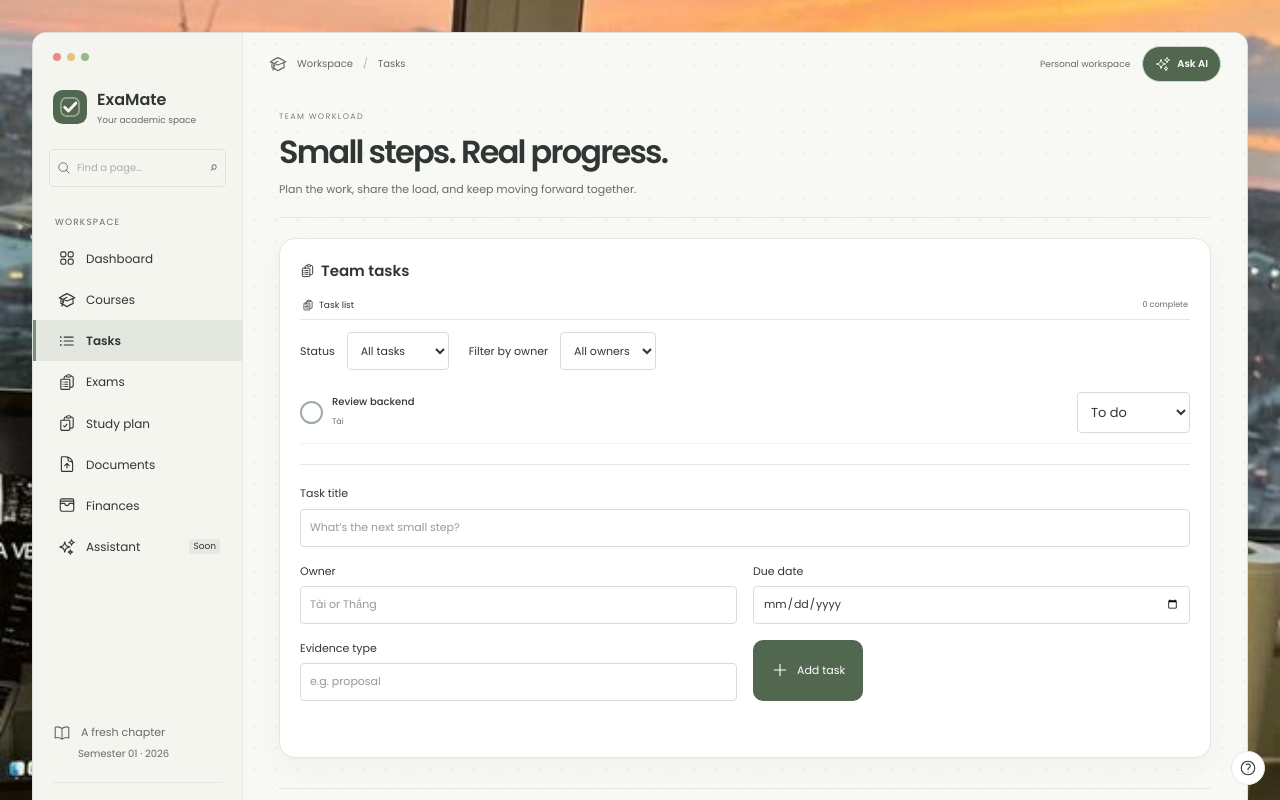
Scenario: updates task status using server response and shows failed submission
Expected: the text "Review backend" is shown, [332,394,414,410]
Select "Done" in the dropdown named "Status for Review backend" at (1134, 413), box [1077,392,1190,433]
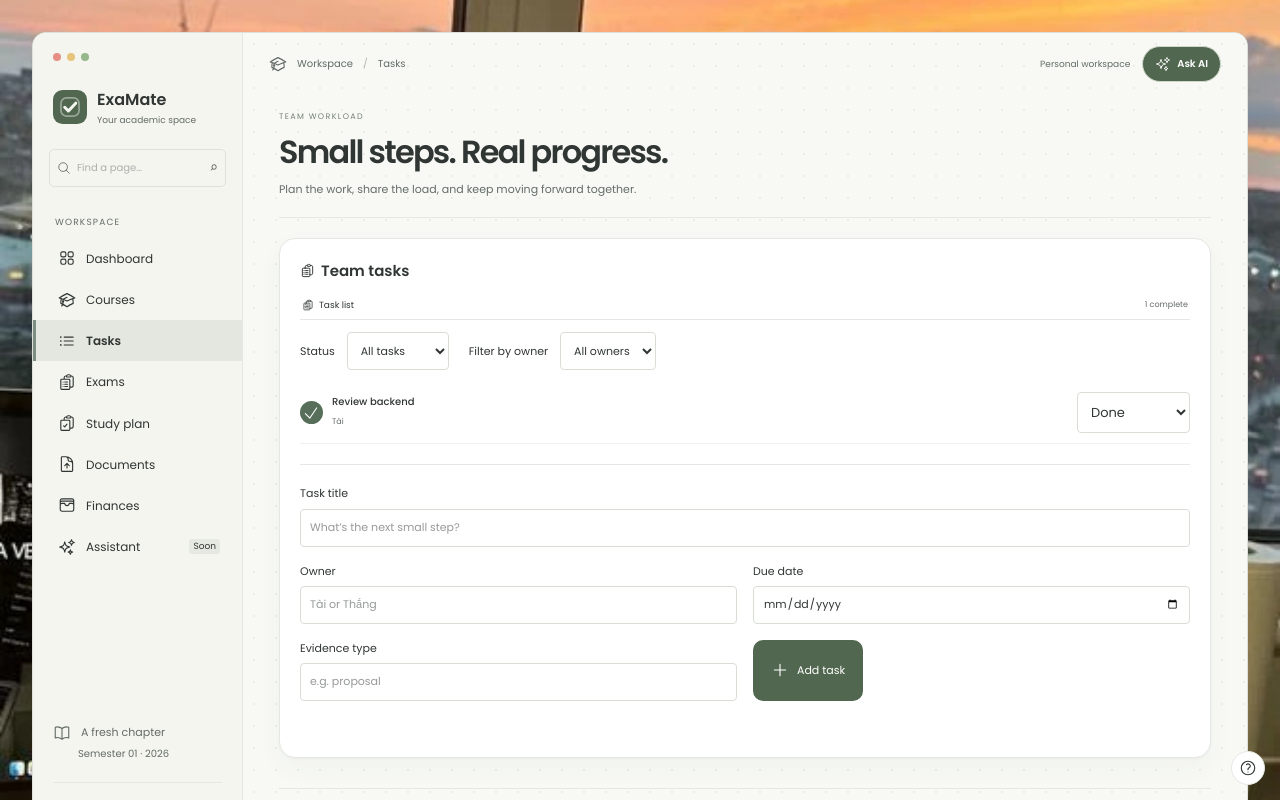
Type "Valid client title" into the field labelled "Task title" at (745, 528), box [300,509,1190,547]
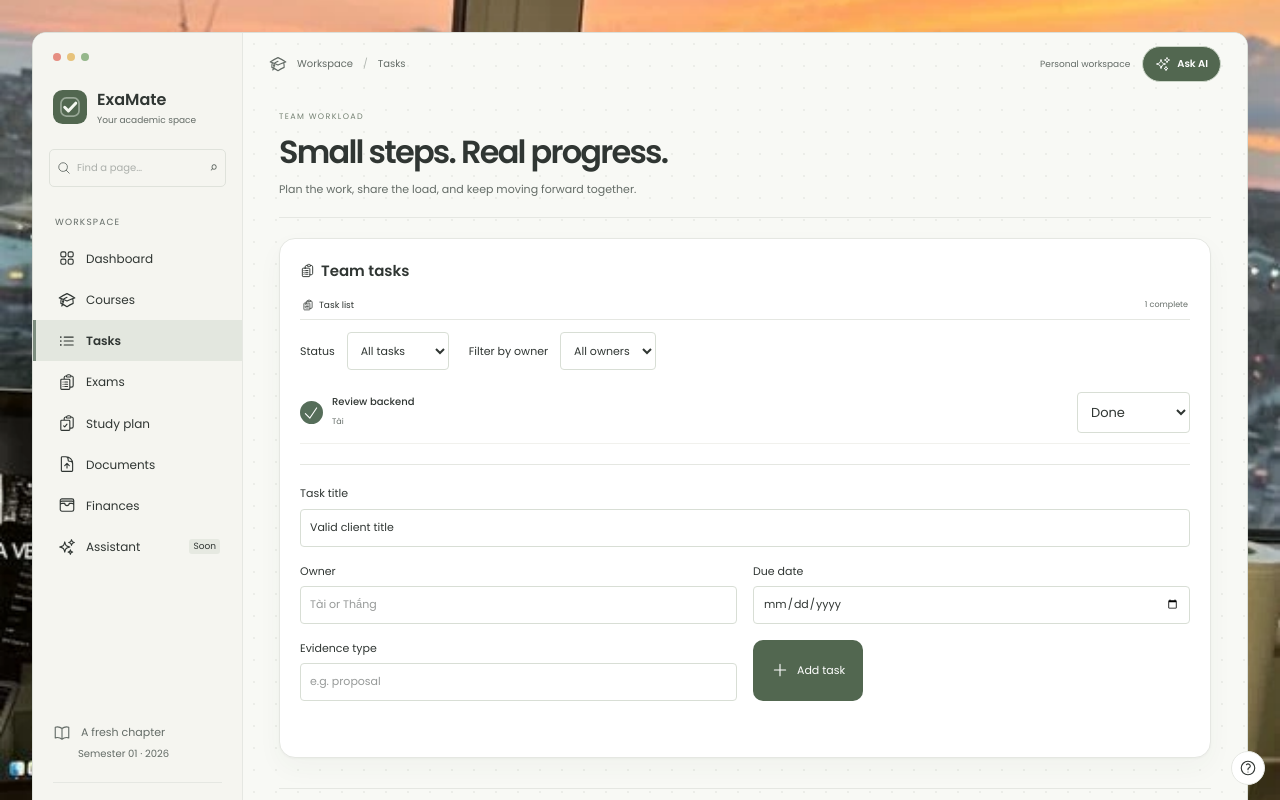
Click the button "Add task" at (808, 670), box [753,640,863,701]
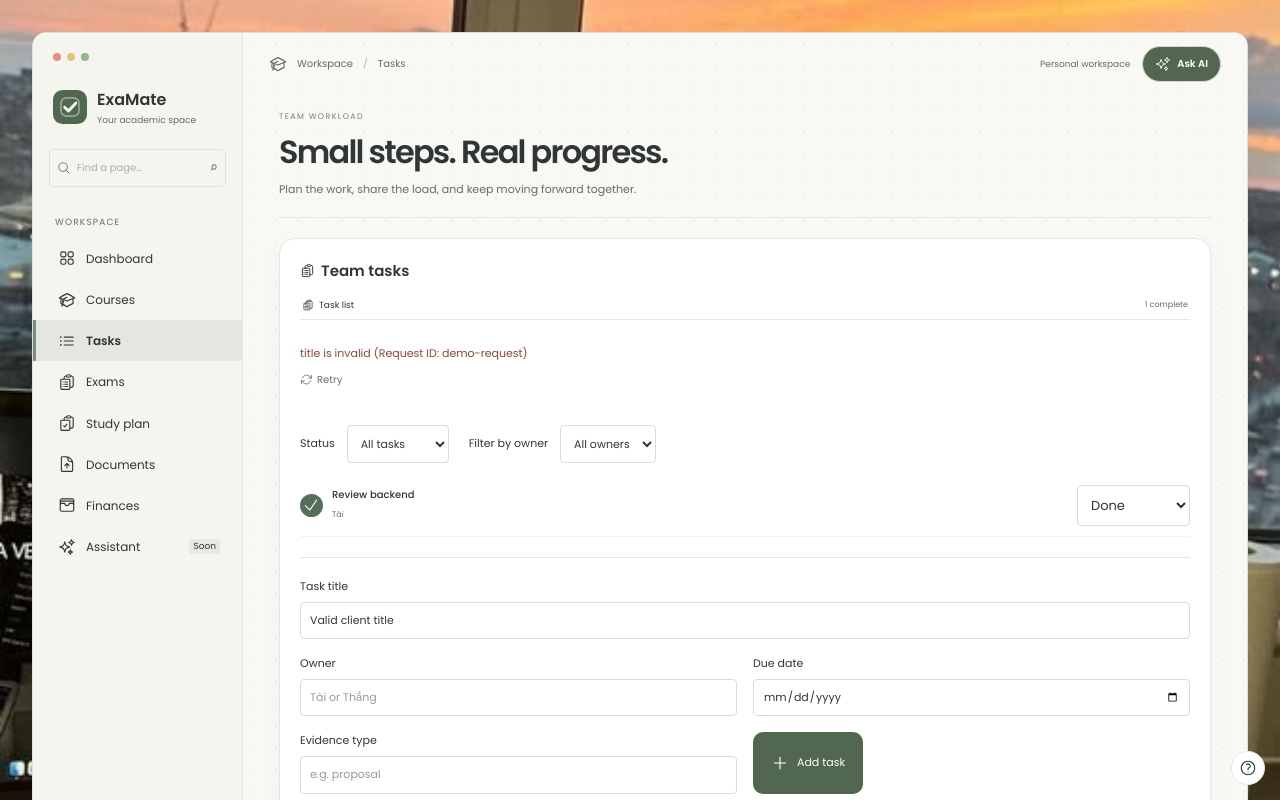
Expected: the message shows "demo-request", [300,345,528,361]
